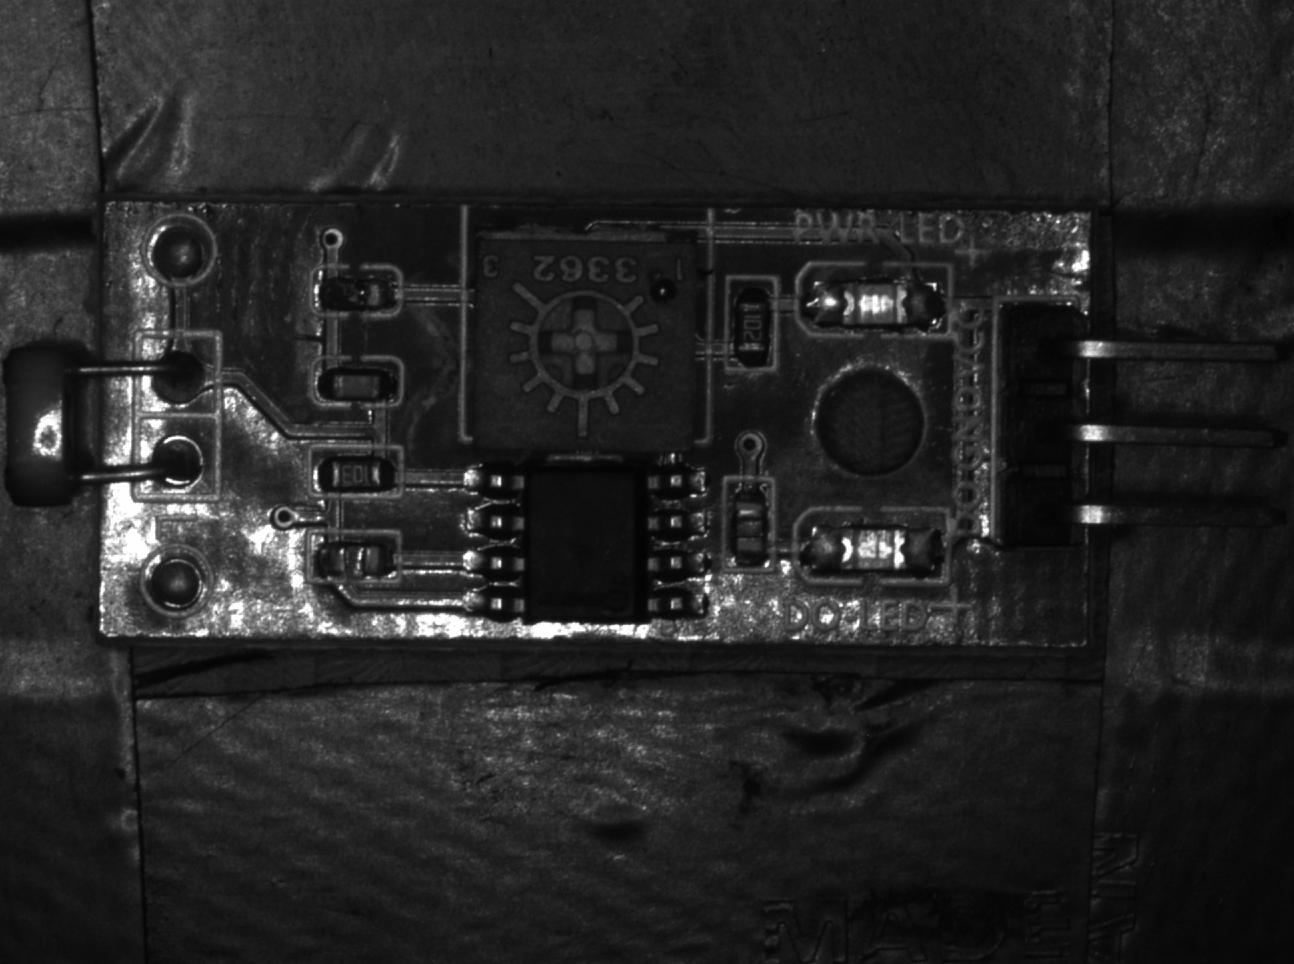miss: (721, 474, 778, 579), (311, 265, 405, 323)
ok: (310, 444, 409, 499), (723, 276, 778, 374), (306, 530, 401, 585), (309, 359, 403, 408)
